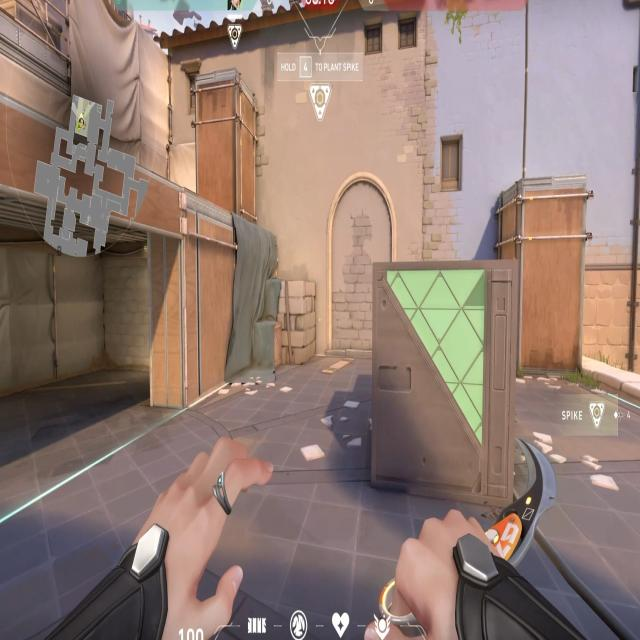A_Heaven_Box: (193, 66, 268, 226)
A_Hell: (0, 173, 188, 427)
